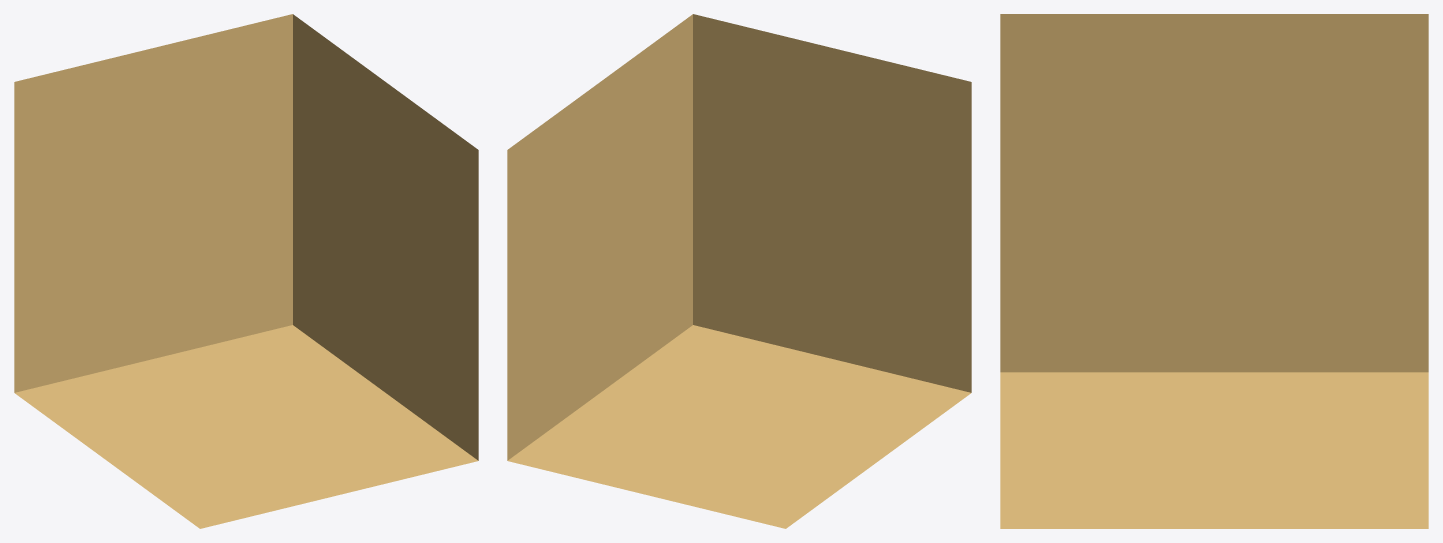
File: ai-outputs-moroccan-night-018.glb
3 renders of one model, left to right at view 1: azimuth 30°, elevation 25°; view 2: azimuth 150°, elevation 25°; view 3: azimuth 270°, elevation 25°, orthographic. The views are drawn at different scales.
Parts seen in each view (by area): view 1: Moroccan Night AI Outputs; view 2: Moroccan Night AI Outputs; view 3: Moroccan Night AI Outputs.
Part boxes in pixels (x1,y1,x2,y2): Moroccan Night AI Outputs: (14, 14, 478, 528); Moroccan Night AI Outputs: (507, 14, 971, 528); Moroccan Night AI Outputs: (1000, 14, 1428, 528).
Bounding box in the file's own units: 1.35 × 1.44 × 1.56.
